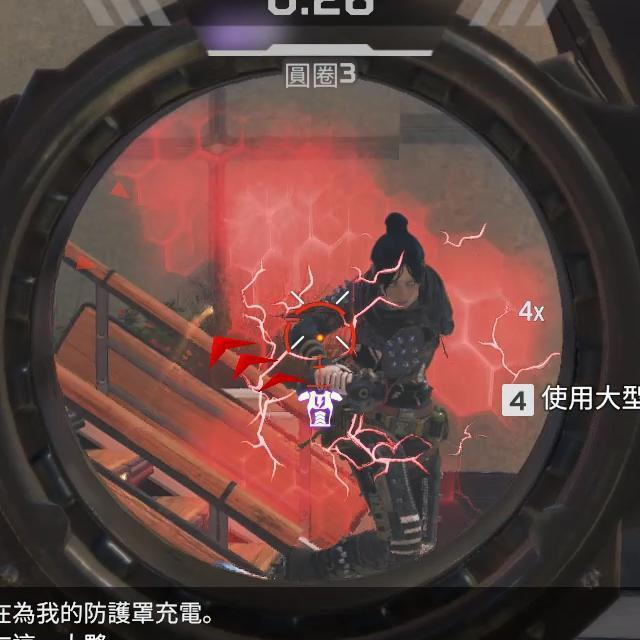avatar: (349, 210, 458, 567)
